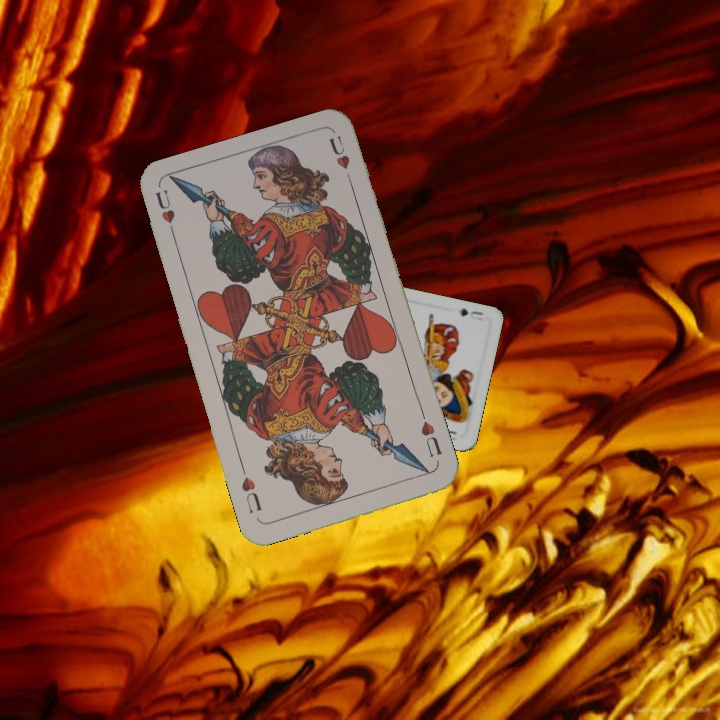GU: (456, 304, 486, 323)
HU: (151, 186, 179, 243), (416, 417, 445, 460)
